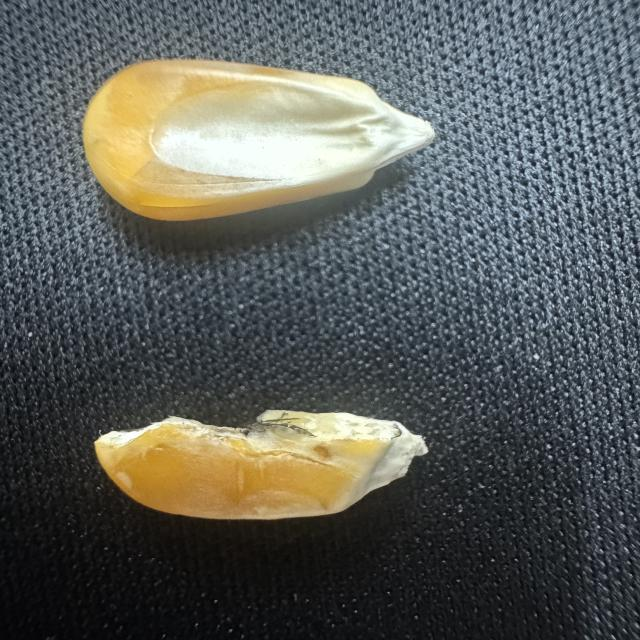Bad-Seed: (81, 394, 450, 550)
Good-Seed: (68, 43, 450, 239)
